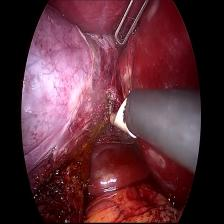Grasper: (113, 0, 152, 51)
Hook: (105, 93, 141, 143)
